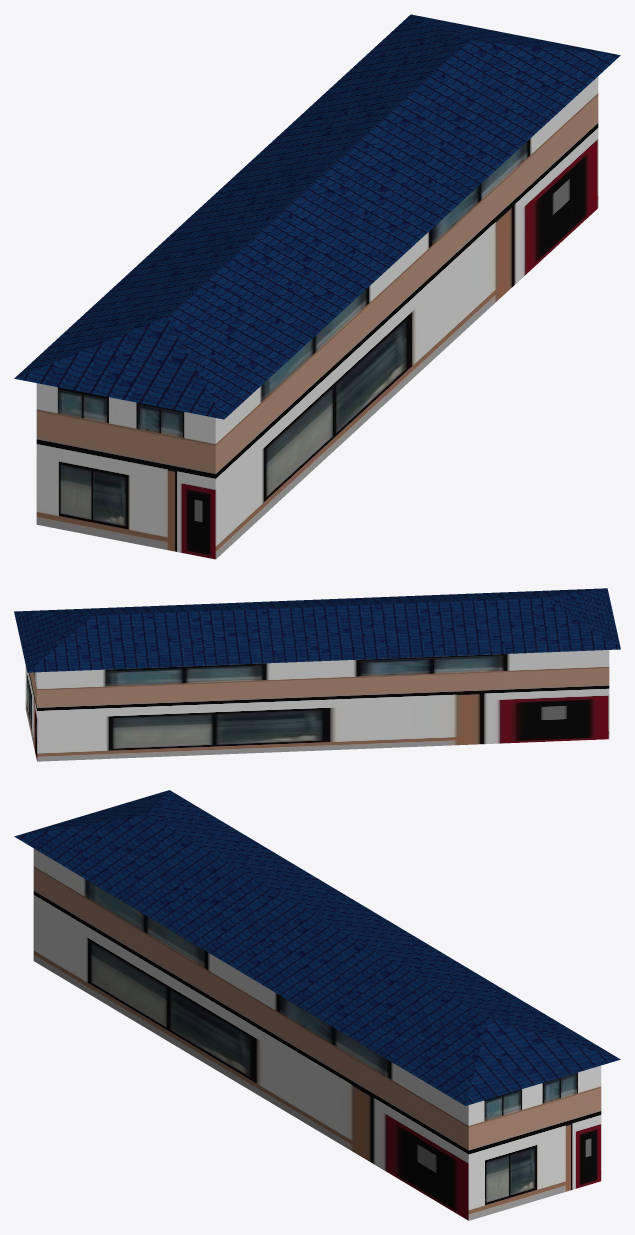
3 views of the same model, one above another, from view 1: azimuth 30°, elevation 25°; view 2: azimuth 150°, elevation 25°; view 3: azimuth 270°, elevation 25° (orthographic). The views are drawn at different scales.
Parts seen in each view (by area): view 1: CityEngineMaterial_6_m, CityEngineMaterial_5_m; view 2: CityEngineMaterial_5_m, CityEngineMaterial_6_m; view 3: CityEngineMaterial_5_m, CityEngineMaterial_6_m.
Boxes of the visible parts, x1,y1,x2,y2 form: CityEngineMaterial_6_m: [14, 14, 620, 419]; CityEngineMaterial_5_m: [36, 76, 598, 559]; CityEngineMaterial_5_m: [25, 650, 609, 761]; CityEngineMaterial_6_m: [14, 588, 620, 672]; CityEngineMaterial_5_m: [33, 848, 601, 1220]; CityEngineMaterial_6_m: [14, 790, 620, 1105].
Size of the model in its own units: 49.74 by 11.34 by 40.37.
